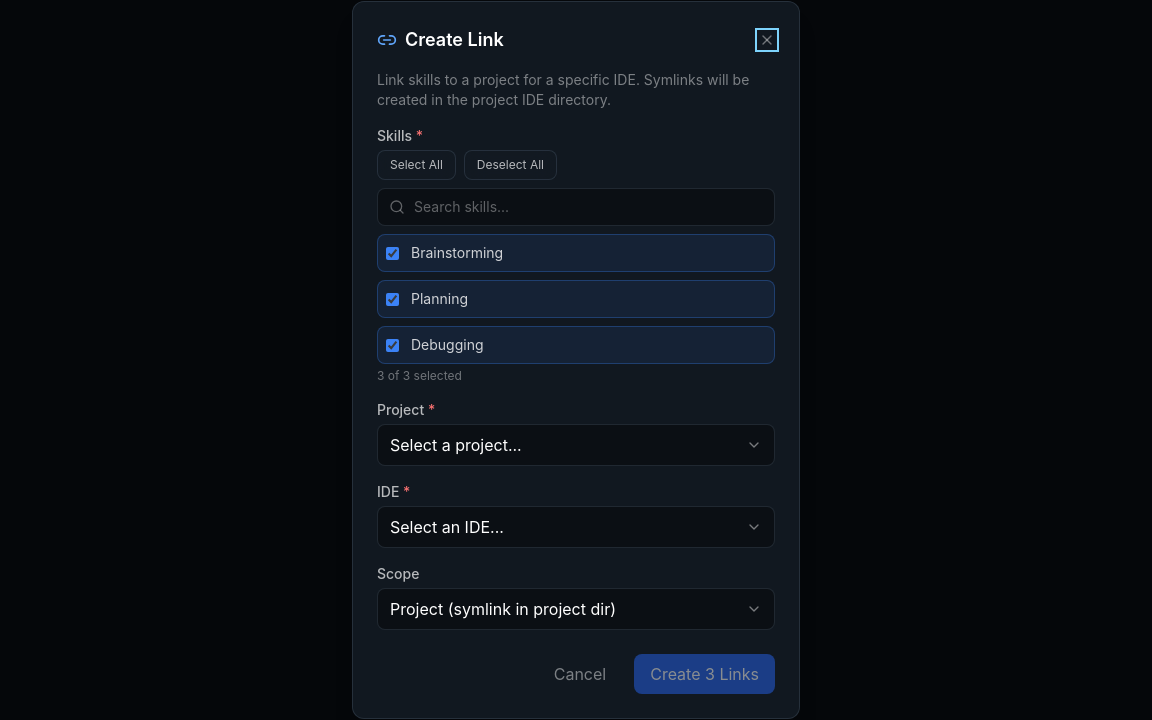
Test: CreateLinkDialog › preserves selections for skills filtered out by search
The image size is (1152, 720).
Deselect all first
Click the button "Deselect All": (510, 165) [464,150,557,180]
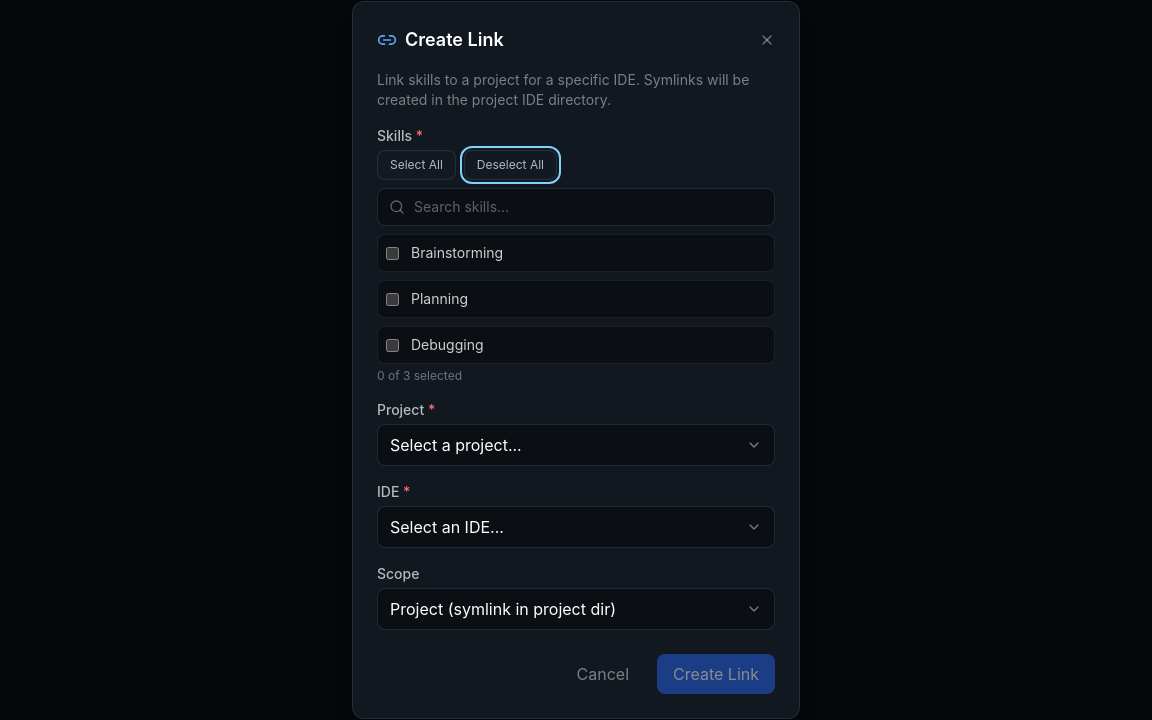
Select only Brainstorming
Click the checkbox labelled "Brainstorming": (392, 253) [386,246,399,260]
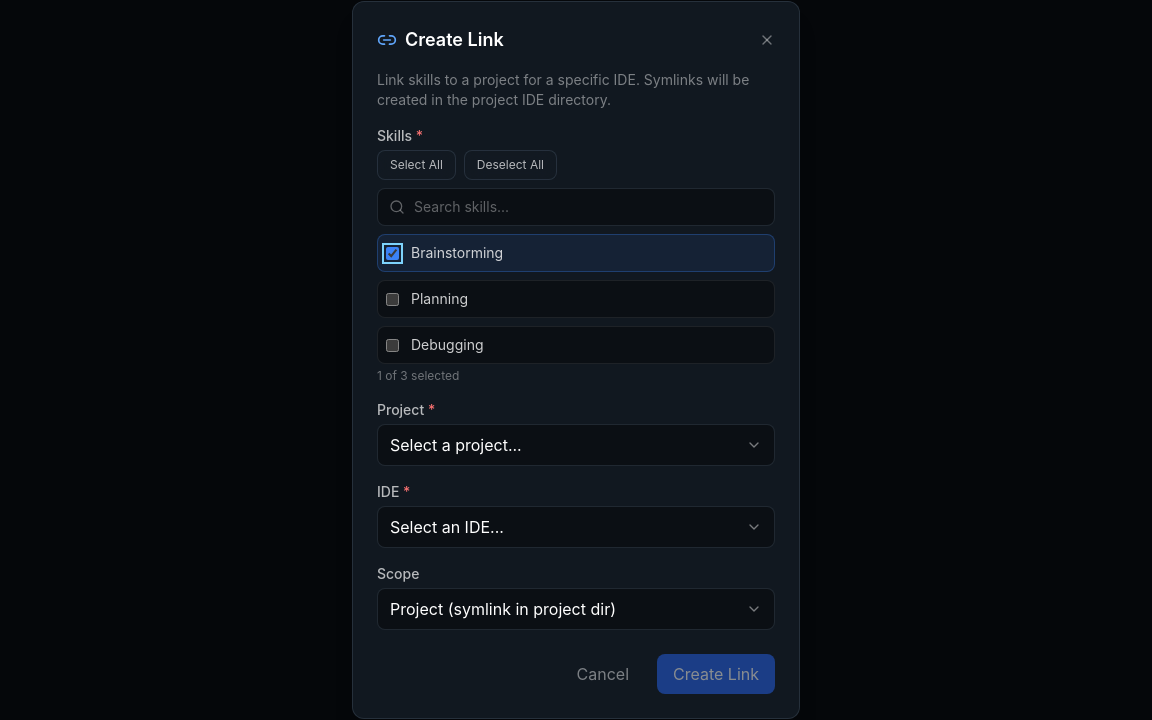
Search to filter Brainstorming out
In the field with placeholder "Search skills...": (576, 207) [377,188,775,226], type "plan"
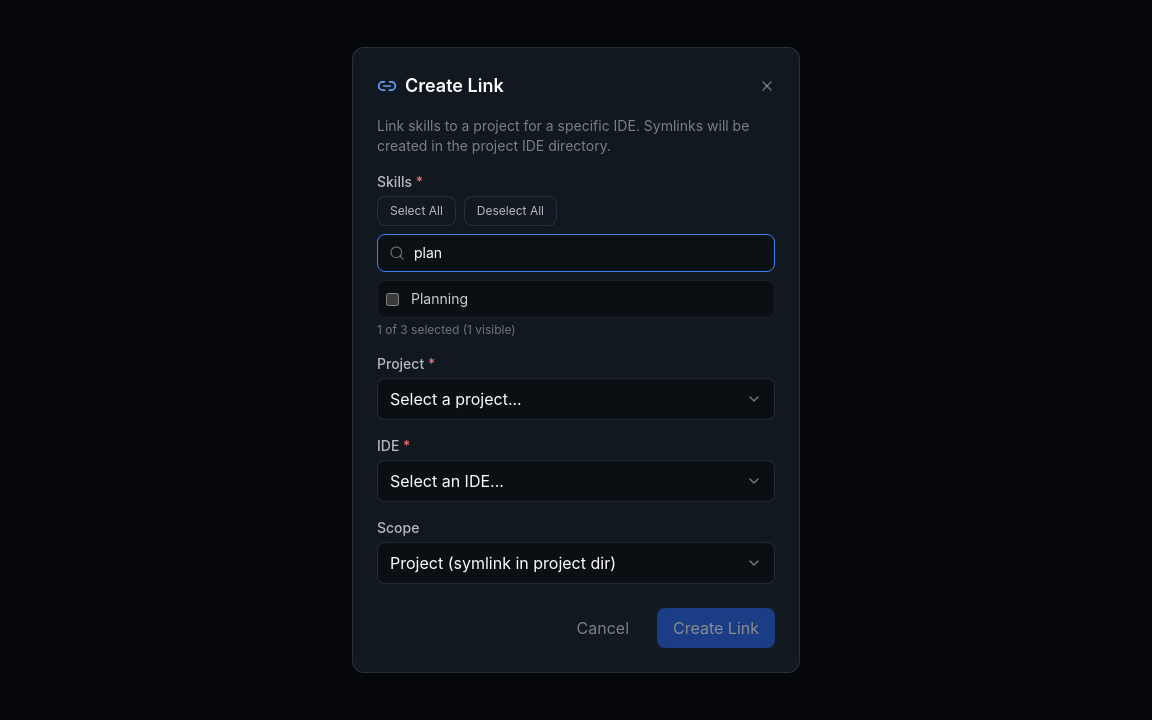
Now the text "1 of 3 selected (1 visible)" is shown, box [377,322,516,337]
Clear search and verify Brainstorming is still selected
Clear the field with placeholder "Search skills...": (576, 253) [377,234,775,272]
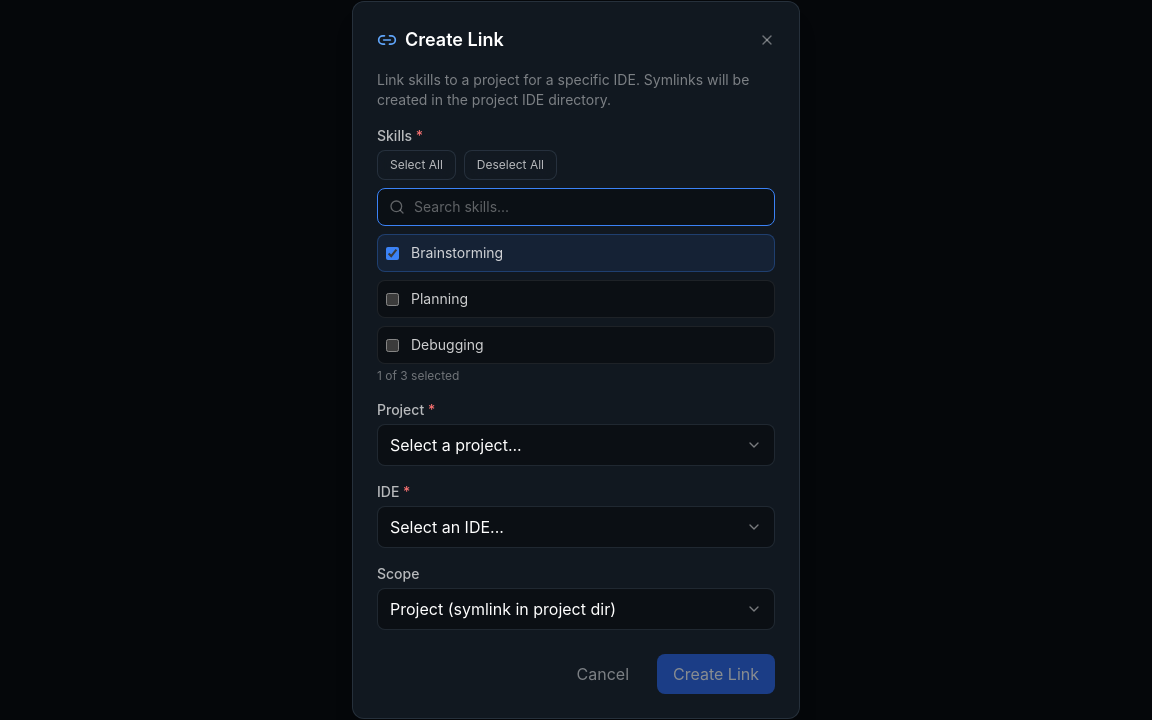
Now the checkbox labelled "Planning" is not checked, box [386,292,399,306]
Now the checkbox labelled "Brainstorming" is checked, box [386,246,399,260]
Now the checkbox labelled "Debugging" is not checked, box [386,338,399,352]
